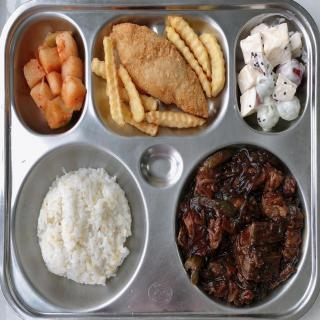Nasi: (39, 164, 134, 287)
